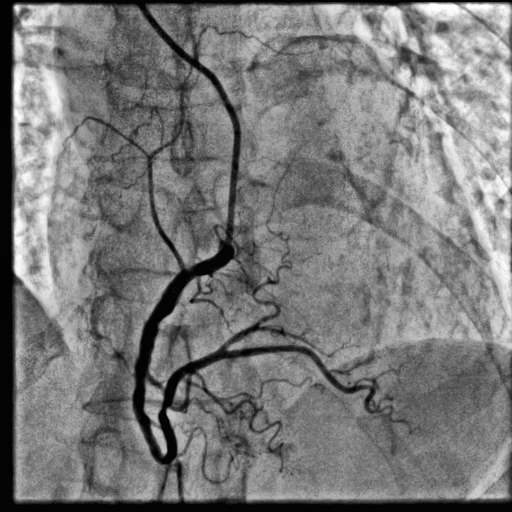pborca: (220, 264, 291, 350)
pda: (224, 345, 421, 435)
rca: (132, 241, 234, 465)
